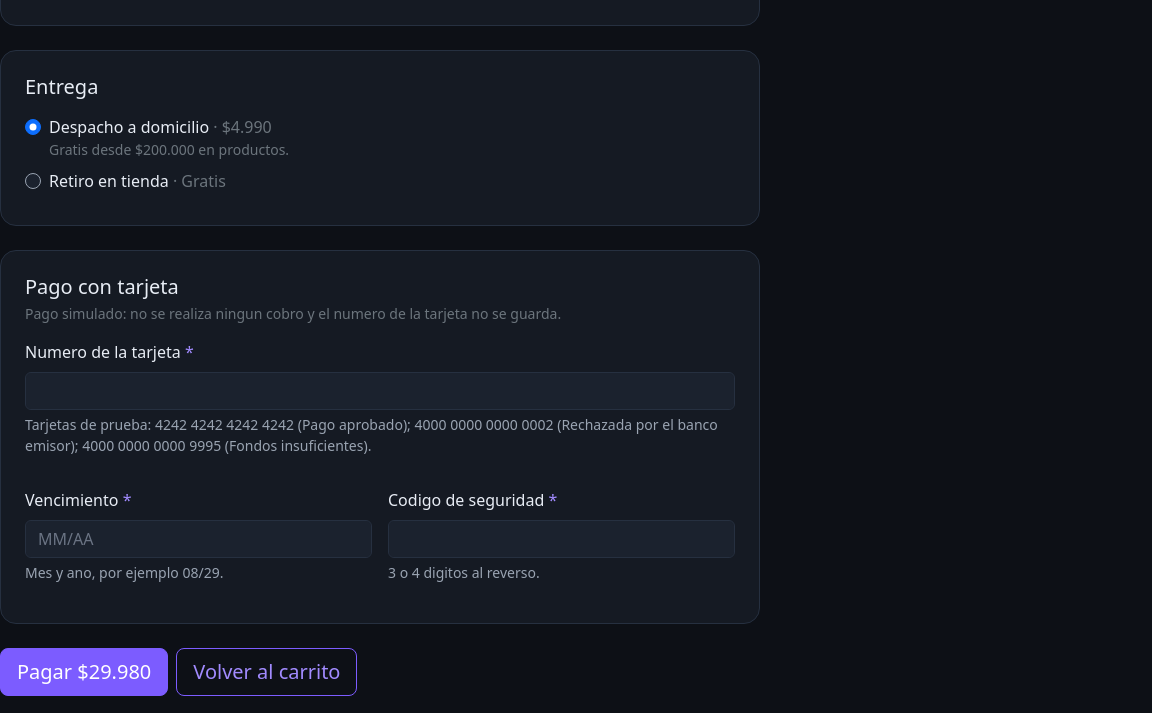
Checkout › invitado › enviar vacio muestra los errores, no cobra y no crea la orden
(page scrolled)
Click the button "Pagar $29.980" at (84, 672), box [0,648,168,696]
(page scrolled)
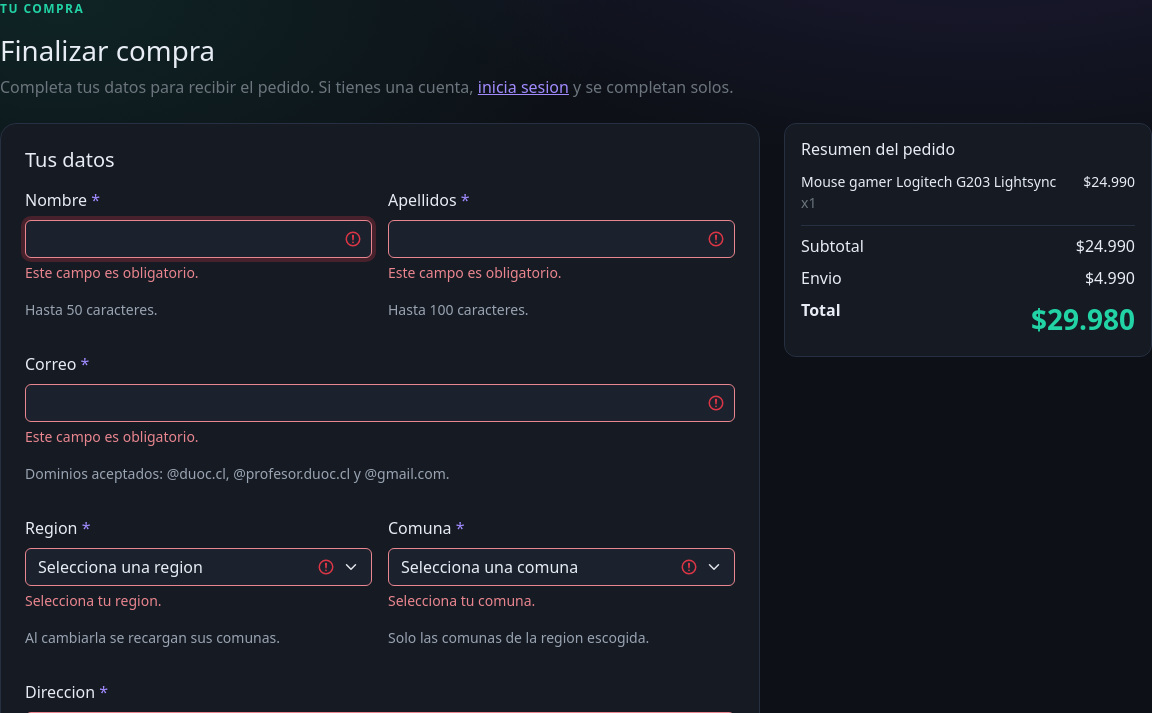
Result: the text "Selecciona tu region." is shown at [25,591,162,610]
